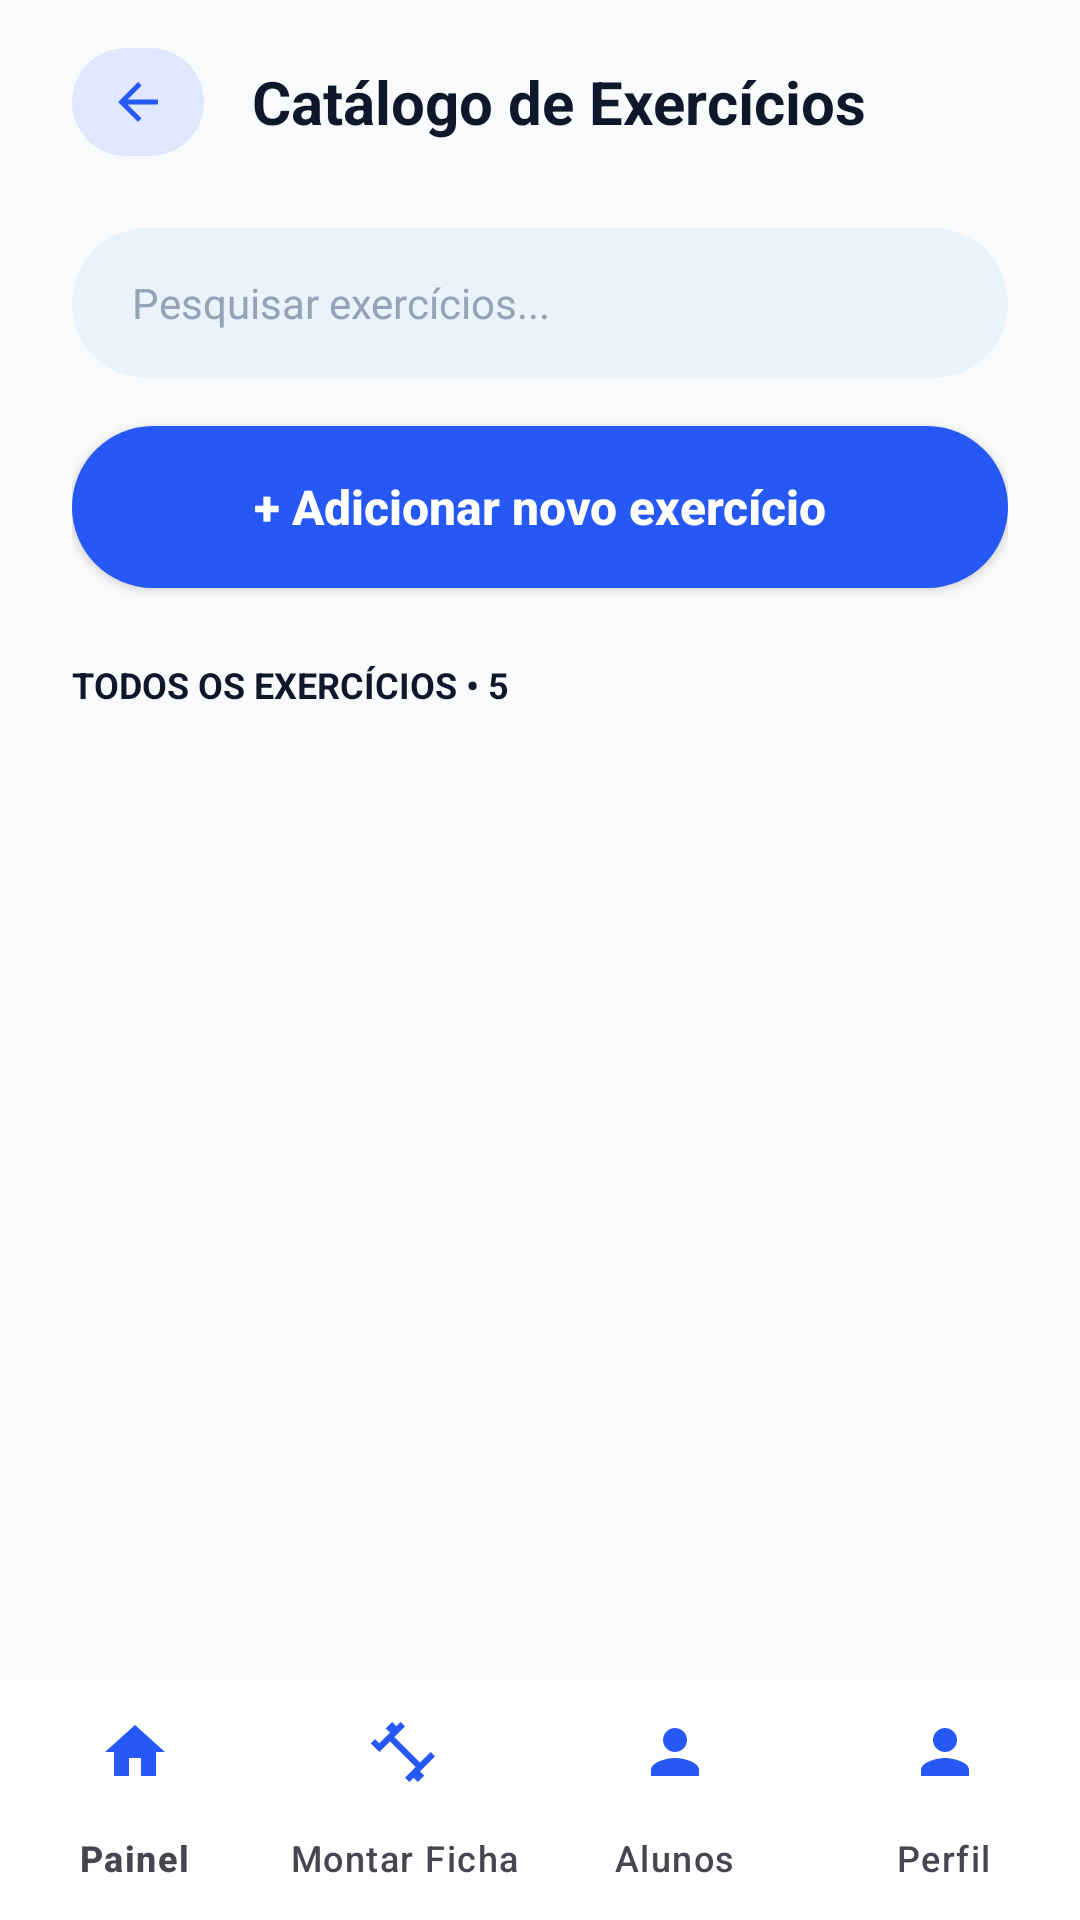

Where to tap for icons on this 1080px x 1920px app screen, as point (x, y):
Voltar: point (138, 102)
